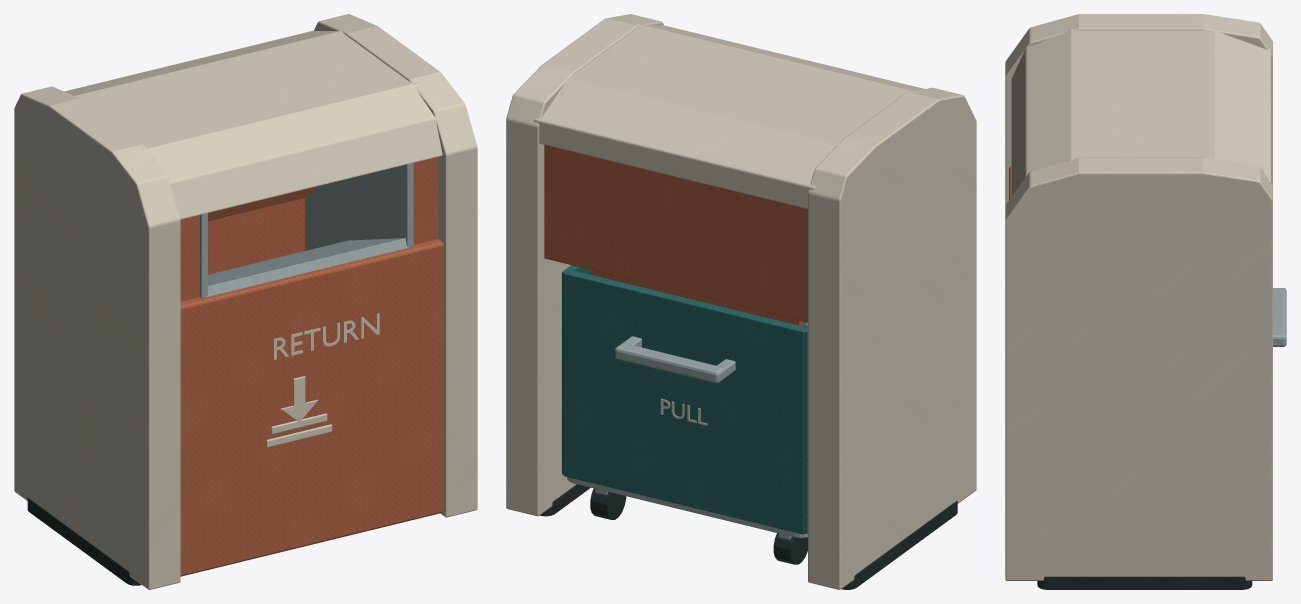
Rendered from AST-AQU-008.glb.
3 views of the same model, side by side, from view 1: azimuth 30°, elevation 25°; view 2: azimuth 150°, elevation 25°; view 3: azimuth 270°, elevation 25° (orthographic). The views are drawn at different scales.
Parts seen in each view (by area): view 1: AST-AQU-008__fixed__ivory_enamel, AST-AQU-008__fixed__aquatic_clay_sling, AST-AQU-008__fixed__aquatic_satin_alloy, AST-AQU-008__fixed__aquatic_dark_grip; view 2: AST-AQU-008__fixed__ivory_enamel, AST-AQU-008__container__aquatic_teal_sling, AST-AQU-008__fixed__aquatic_clay_sling, AST-AQU-008__container__aquatic_satin_alloy, AST-AQU-008__fixed__aquatic_dark_grip, AST-AQU-008__container__aquatic_dark_grip; view 3: AST-AQU-008__fixed__ivory_enamel, AST-AQU-008__fixed__aquatic_dark_grip, AST-AQU-008__container__aquatic_satin_alloy.
Part boxes in pixels (x1,y1,x2,y2): AST-AQU-008__fixed__ivory_enamel: [14, 14, 477, 589]; AST-AQU-008__fixed__aquatic_clay_sling: [180, 157, 443, 576]; AST-AQU-008__fixed__aquatic_satin_alloy: [200, 163, 413, 297]; AST-AQU-008__fixed__aquatic_dark_grip: [27, 498, 141, 585]; AST-AQU-008__fixed__ivory_enamel: [506, 14, 976, 589]; AST-AQU-008__container__aquatic_teal_sling: [562, 265, 807, 534]; AST-AQU-008__fixed__aquatic_clay_sling: [544, 145, 807, 326]; AST-AQU-008__container__aquatic_satin_alloy: [567, 336, 807, 539]; AST-AQU-008__fixed__aquatic_dark_grip: [540, 484, 957, 589]; AST-AQU-008__container__aquatic_dark_grip: [590, 488, 807, 564]; AST-AQU-008__fixed__ivory_enamel: [1005, 14, 1272, 580]; AST-AQU-008__fixed__aquatic_dark_grip: [1037, 576, 1252, 589]; AST-AQU-008__container__aquatic_satin_alloy: [1273, 288, 1286, 346].
Bounding box in the file's own units: 1 × 1.22 × 0.746.
Materials: 5 (5 with a texture image).
